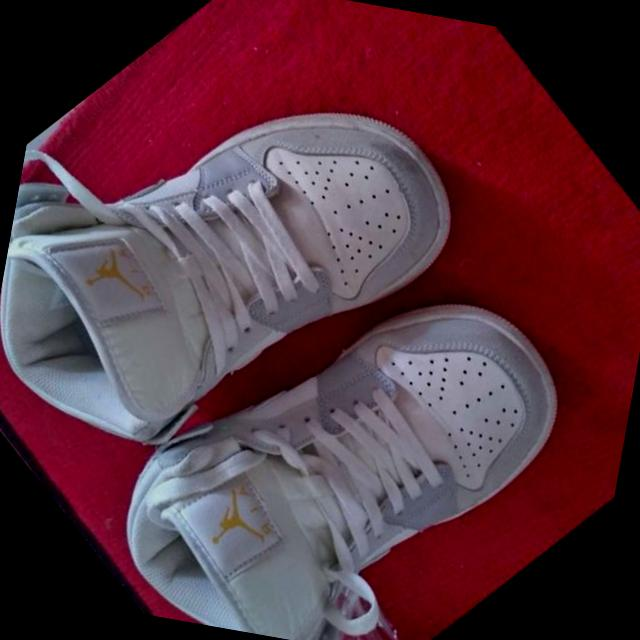nike_fake_jordan: (0, 0, 518, 564), (68, 173, 640, 640)
